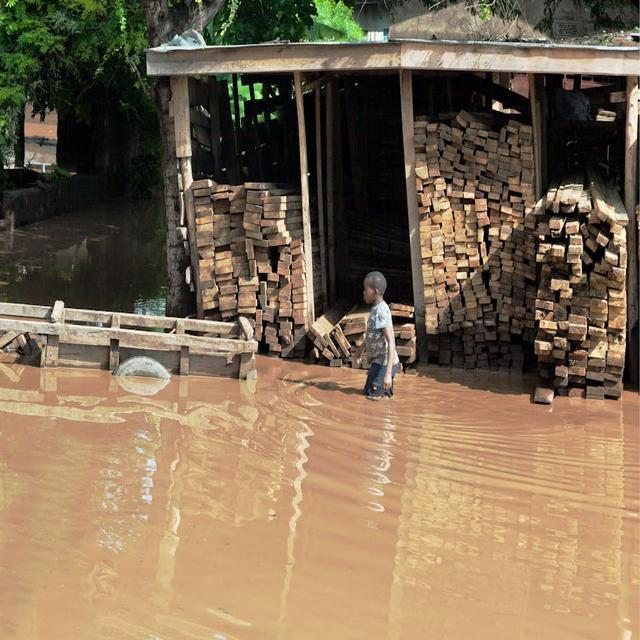Person-RiskLevel2: (348, 267, 403, 403)
